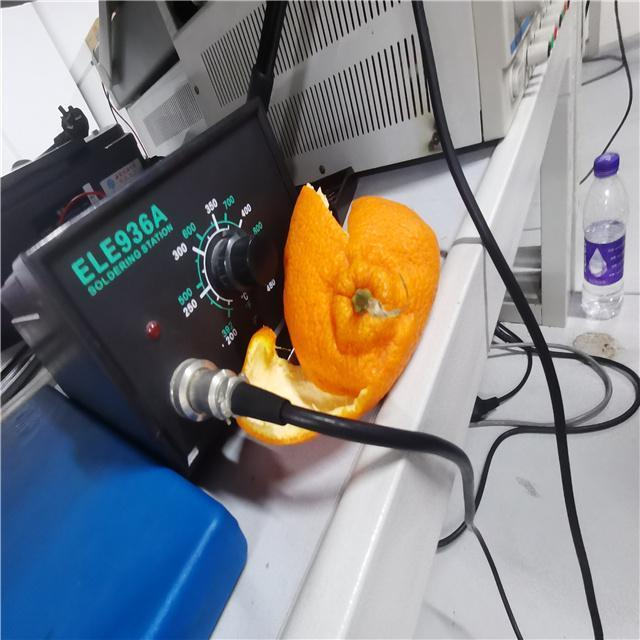orange peel: (236, 182, 444, 444)
